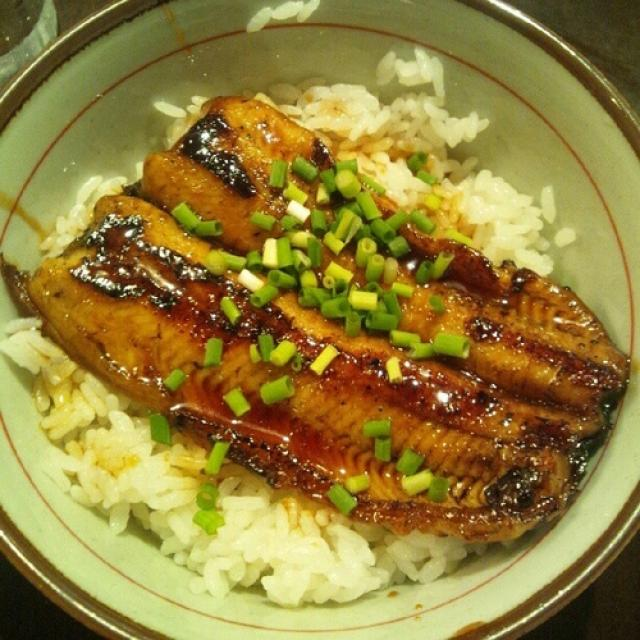熟制海鲜: (5, 52, 627, 608)
